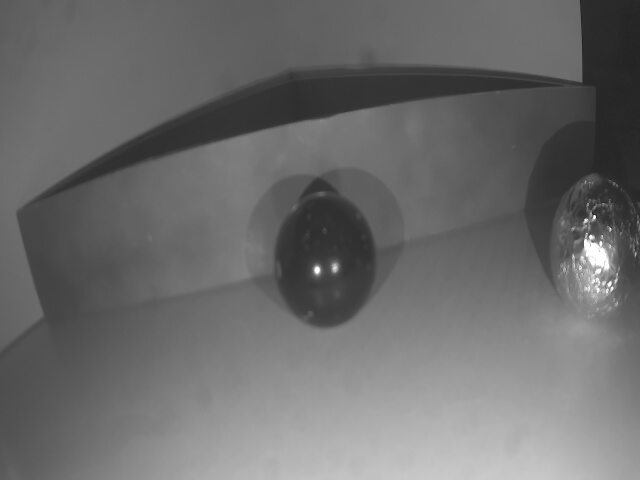Dead: (271, 200, 378, 330)
Green: (30, 87, 598, 323)
Live: (550, 180, 640, 318)
